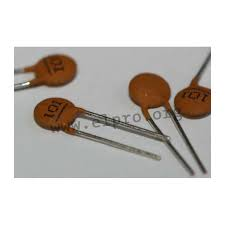ceramic capacitor: (22, 94, 98, 149), (113, 66, 174, 117), (25, 53, 92, 92)
